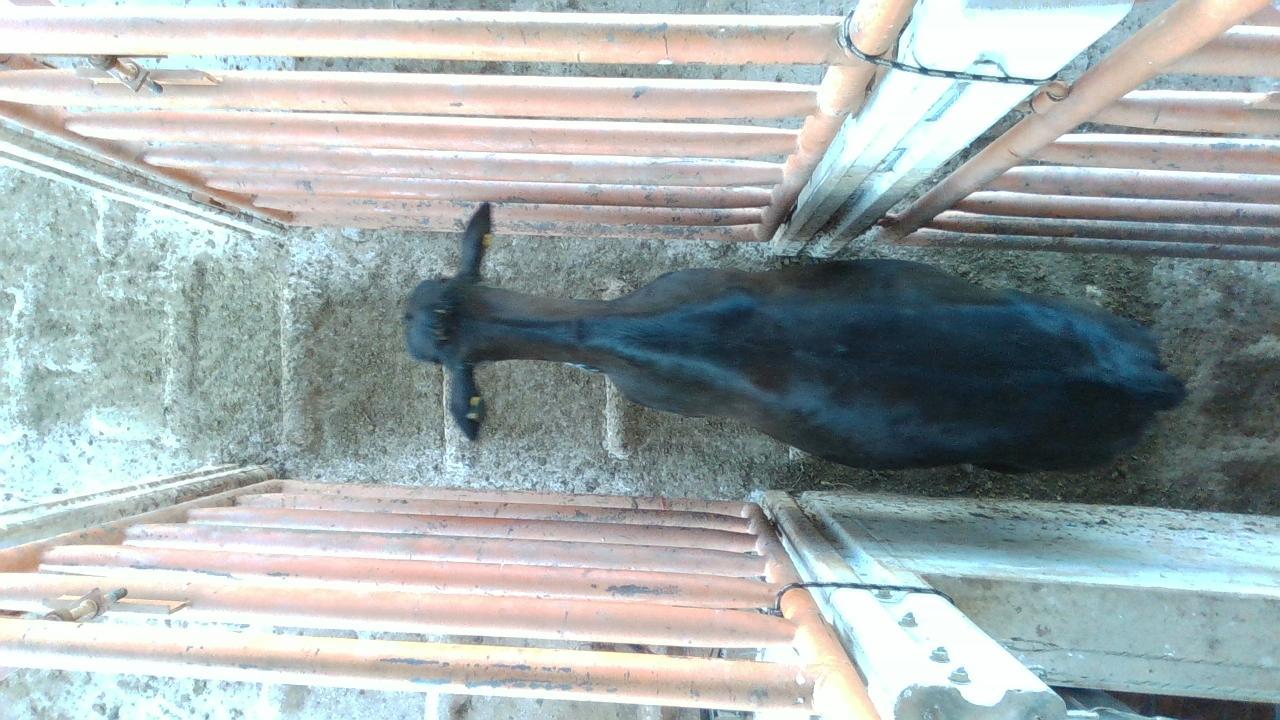cattle: (402, 200, 1187, 473)
